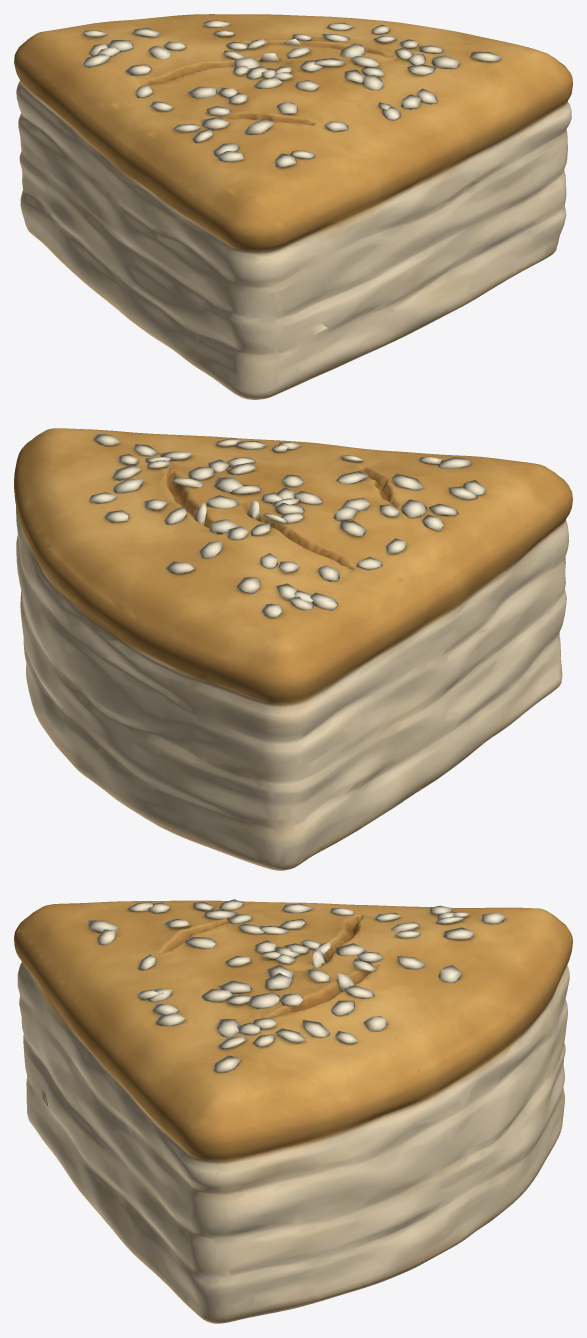
Rendered from scone--oat-flake.glb.
The picture shows the model from 3 angles, top to bottom: view 1: azimuth 30°, elevation 25°; view 2: azimuth 150°, elevation 25°; view 3: azimuth 270°, elevation 25°; orthographic projection. The views are drawn at different scales.
Visible parts, largest first — view 1: scone_oat-flake; view 2: scone_oat-flake; view 3: scone_oat-flake.
Part boxes in pixels (x1,y1,x2,y2): scone_oat-flake: (14,14,572,399); scone_oat-flake: (14,428,572,870); scone_oat-flake: (14,899,572,1323).
Size of the model in its own units: 0.9422 by 0.4802 by 0.9825.
1 material, 1 textured.
